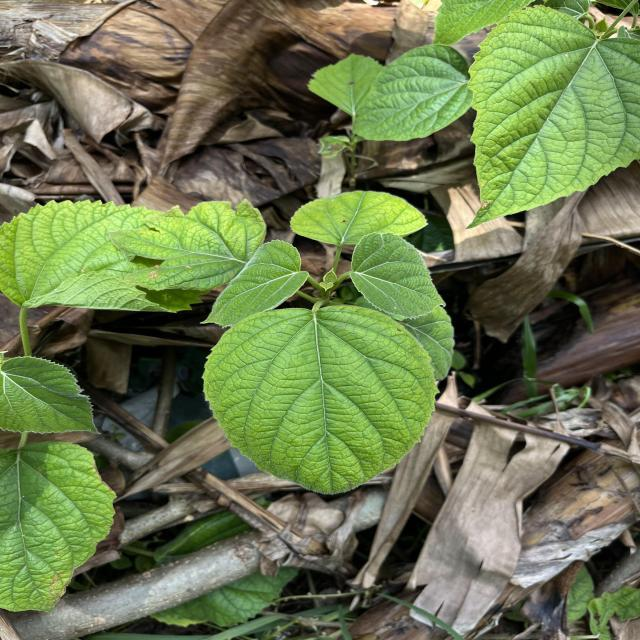Clerodendrum infortunatum: (198, 303, 440, 496), (0, 196, 216, 314), (0, 439, 119, 614), (198, 239, 310, 327), (349, 231, 448, 320), (0, 354, 104, 436), (288, 188, 430, 246)
